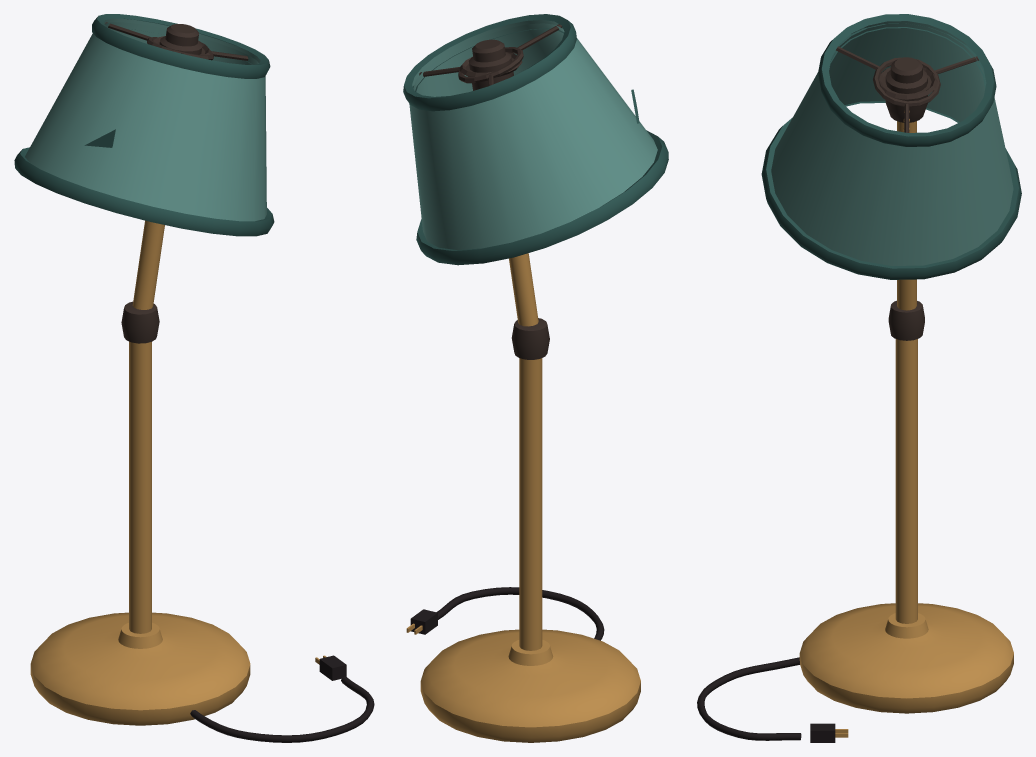
The model's file is Broken Floor Lamp.fbx.
The picture shows the model from 3 angles, left to right: view 1: azimuth 30°, elevation 25°; view 2: azimuth 150°, elevation 25°; view 3: azimuth 270°, elevation 25°; orthographic projection. The views are drawn at different scales.
Parts seen in each view (by area): view 1: Lamp_Shade, Lamp_Base, Lamp_Pole, Lamp_Cord, Lamp_Socket; view 2: Lamp_Shade, Lamp_Base, Lamp_Pole, Lamp_Cord, Lamp_Socket; view 3: Lamp_Shade, Lamp_Base, Lamp_Pole, Lamp_Cord, Lamp_Socket.
Boxes of the visible parts, x1,y1,x2,y2 form: Lamp_Shade: (14,14,274,236); Lamp_Base: (30,612,250,725); Lamp_Pole: (121,220,164,633); Lamp_Cord: (190,655,374,742); Lamp_Socket: (153,24,211,55); Lamp_Shade: (403,14,668,265); Lamp_Base: (420,629,640,742); Lamp_Pole: (509,253,549,650); Lamp_Cord: (406,587,604,640); Lamp_Socket: (459,39,522,90); Lamp_Shade: (761,14,1021,279); Lamp_Base: (799,603,1013,713); Lamp_Pole: (888,121,924,623); Lamp_Cord: (697,657,848,742); Lamp_Socket: (879,57,937,122).
Size of the model in its own units: 0.4876 by 1.14 by 0.5213.
